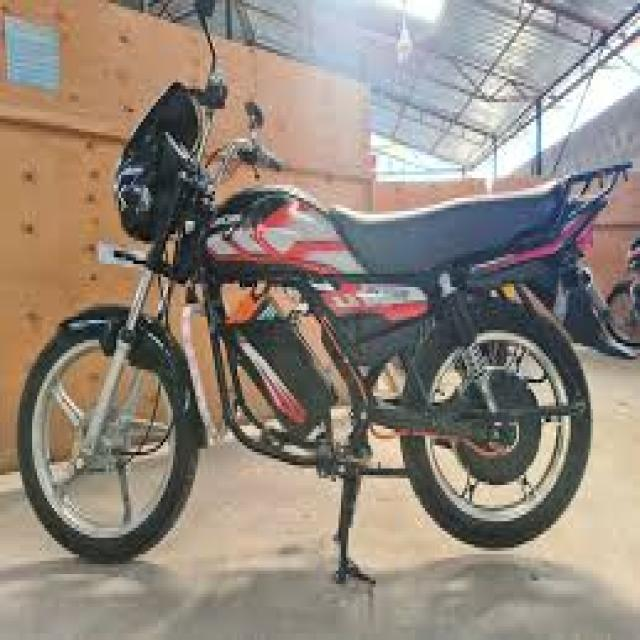bodaboda: (9, 0, 632, 608)
